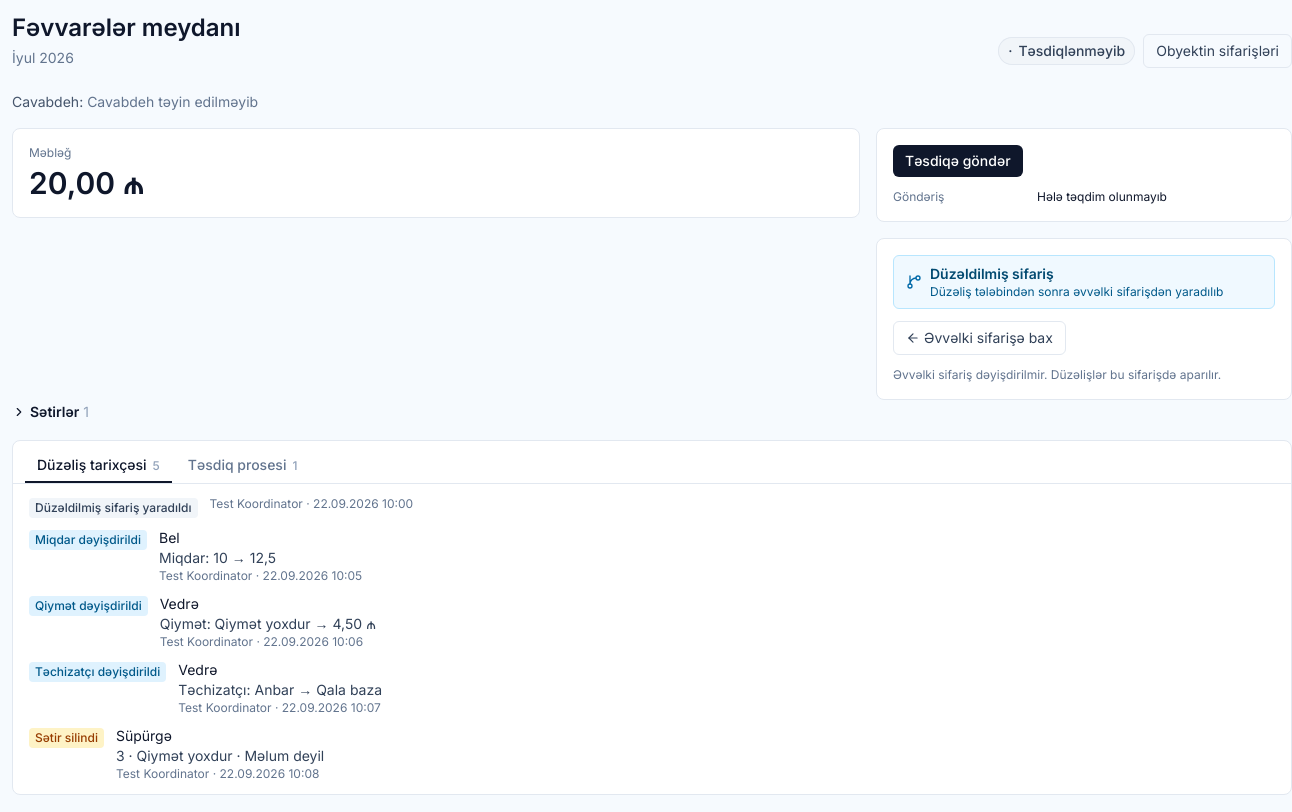
Test case: the histories › keeps the two histories apart
Check: the heading "Fəvvarələr meydanı" is shown, box [12,12,241,44]
Check: the text "Miqdar: 10 → 12,5" is shown, box [159,549,276,566]
Click the tab "Təsdiq prosesi1" at (243, 466), box [176,449,309,483]
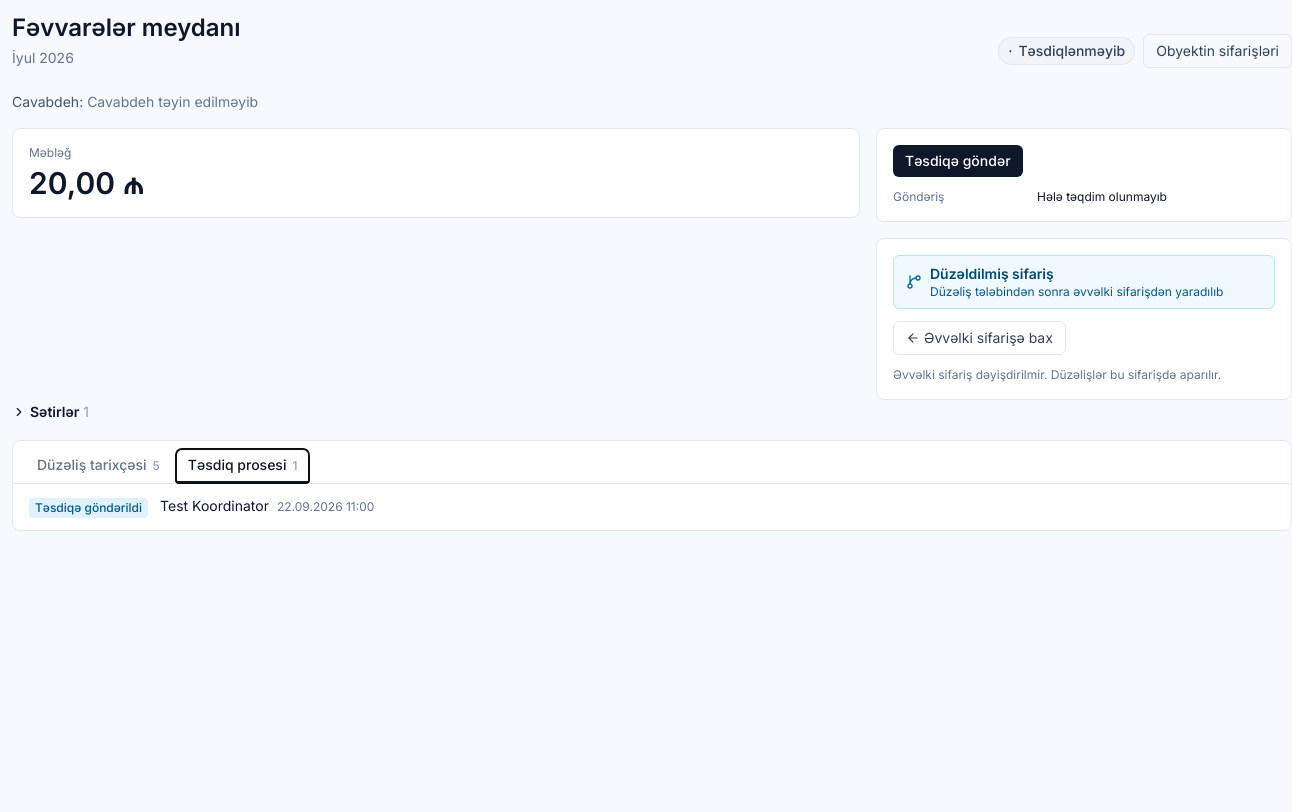
Check: the text "Təsdiqə göndərildi" is shown, box [29,498,148,518]
Check: the text "Miqdar: 10 → 12,5" is gone
